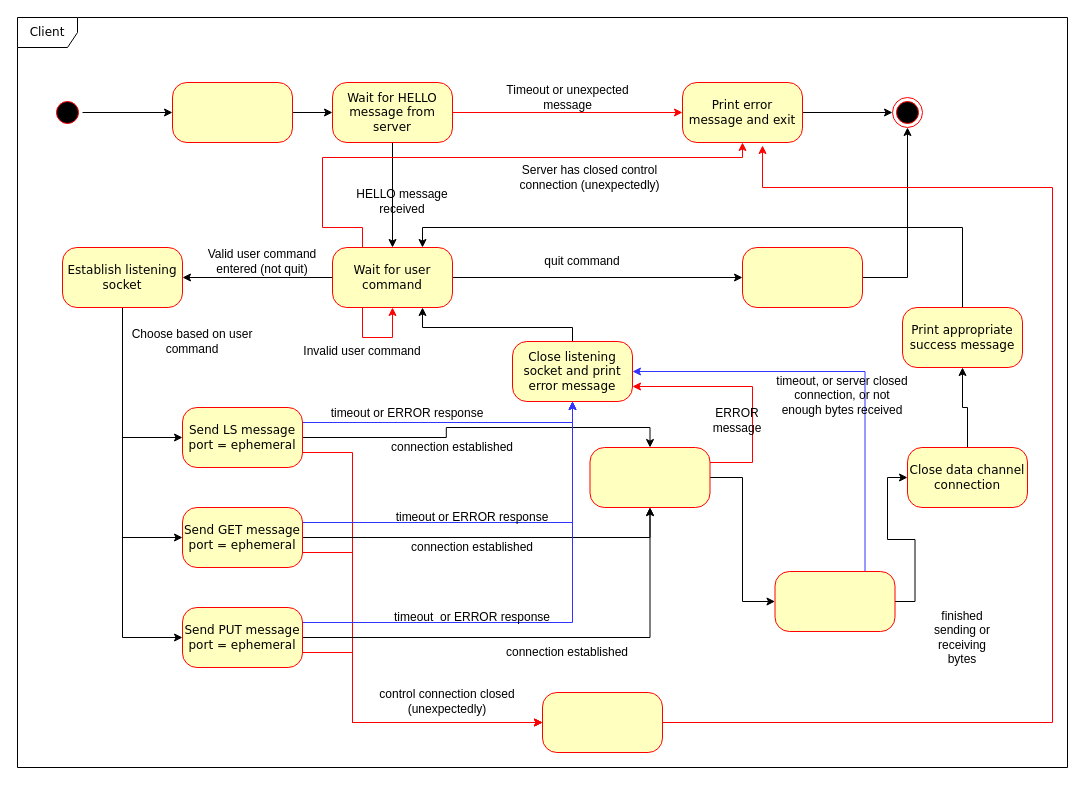
Image size: 1085x785. Some labels were removed from this diagram. The centre of each missing label's shape, as x and y in pixels:
"Close listening socket" goes at (602,722).
"Send HELLO message to server" goes at (232,112).
"Send or receive Message.datalen bytes on data channel" goes at (834,601).
"Send QUIT message" goes at (802,277).
"Wait for server OK response" goes at (649,477).
